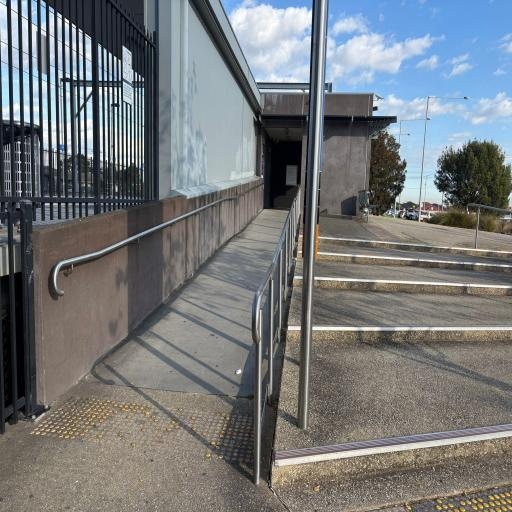handrail: (248, 182, 300, 484)
ramp: (85, 205, 299, 398)
stairs: (282, 235, 510, 485)
